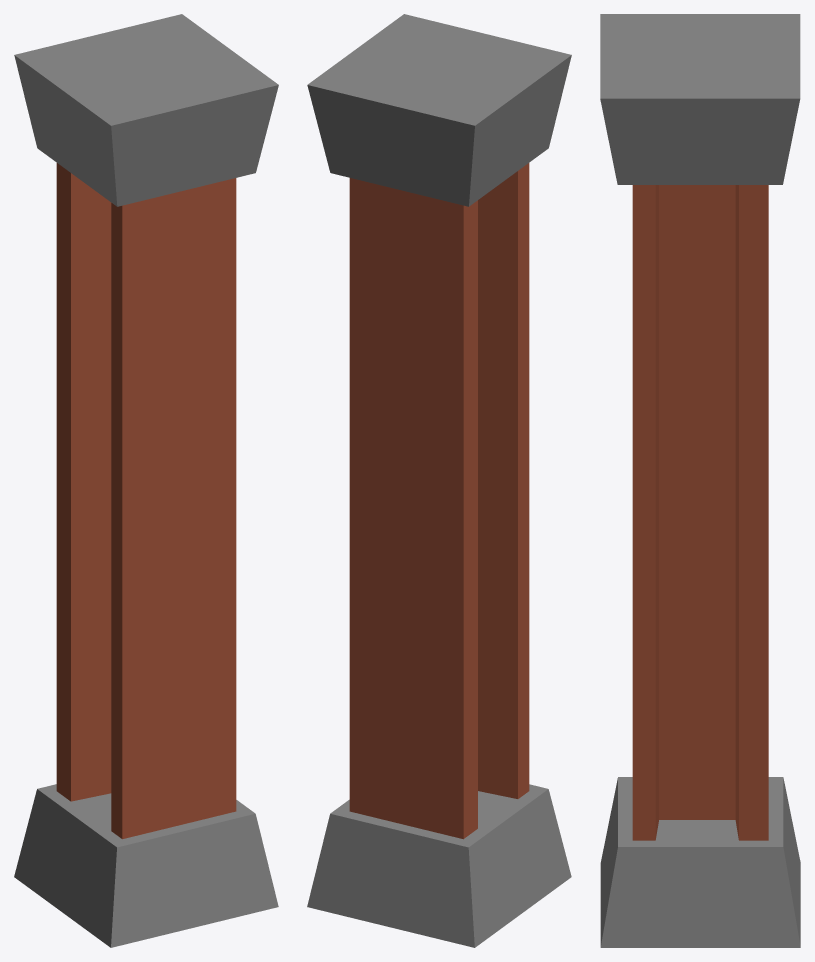
Rendered from BridgeSectionSteel.fbx.
3 views of the same model, side by side, from view 1: azimuth 30°, elevation 25°; view 2: azimuth 150°, elevation 25°; view 3: azimuth 270°, elevation 25° (orthographic). The views are drawn at different scales.
Parts seen in each view (by area): view 1: pCube41; view 2: pCube41; view 3: pCube41.
Part boxes in pixels (left/top/right/bottom): pCube41: left=14, top=14, right=278, bottom=947; pCube41: left=307, top=14, right=571, bottom=947; pCube41: left=600, top=14, right=800, bottom=947.
Bounding box in the file's own units: 62.08 × 291 × 62.21.
